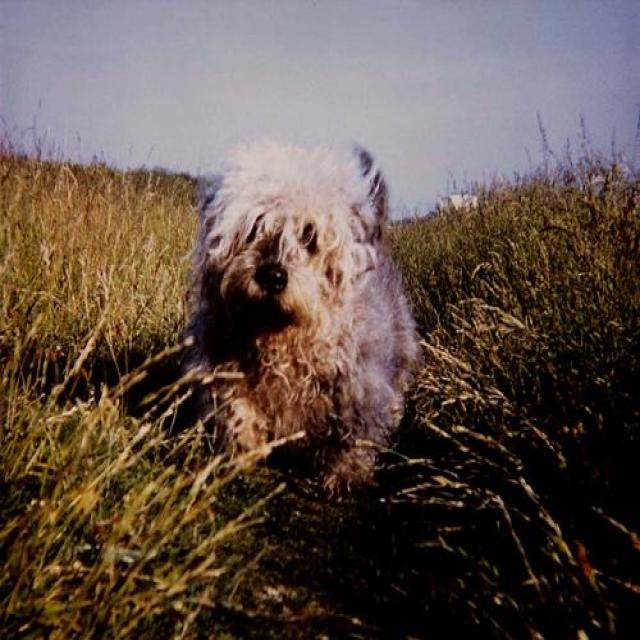dandie_dinmont: (188, 139, 420, 495)
